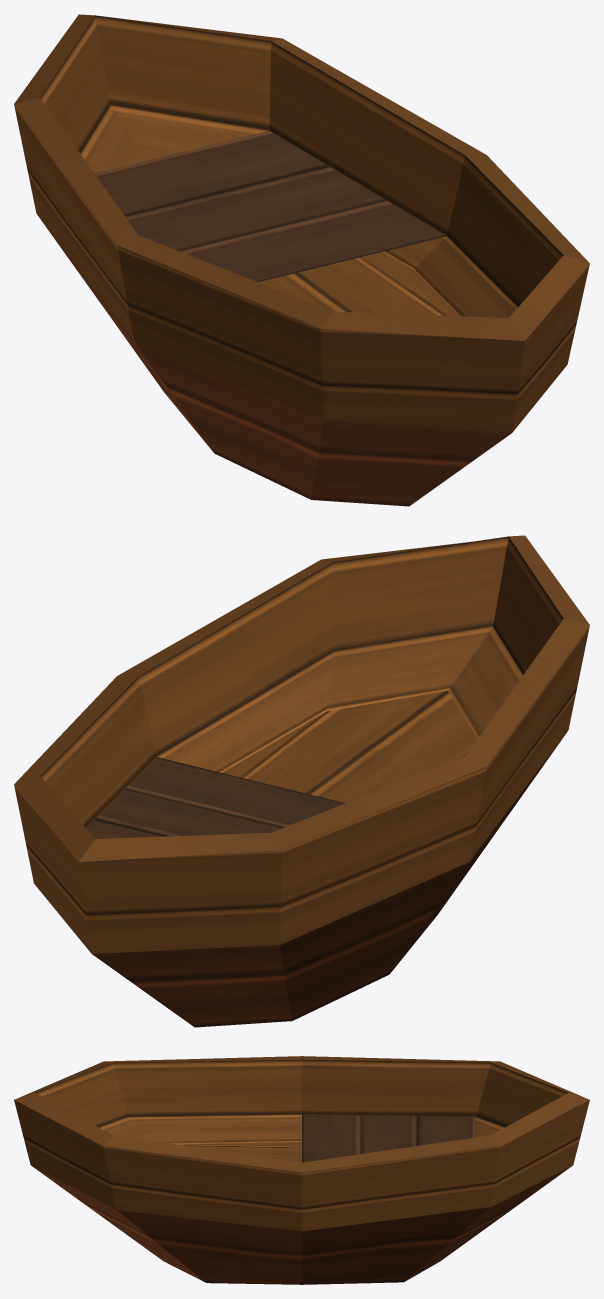
Rendered from co_Boat04.fbx.
3 views of the same model, one above another, from view 1: azimuth 30°, elevation 25°; view 2: azimuth 150°, elevation 25°; view 3: azimuth 270°, elevation 25° (orthographic). The views are drawn at different scales.
Parts seen in each view (by area): view 1: Boat04; view 2: Boat04; view 3: Boat04.
Part boxes in pixels (box(x1,y1,x2,y2)): Boat04: box(14, 14, 589, 506); Boat04: box(14, 535, 589, 1027); Boat04: box(14, 1056, 589, 1284).
Size of the model in its own units: 751 by 515 by 1569.
